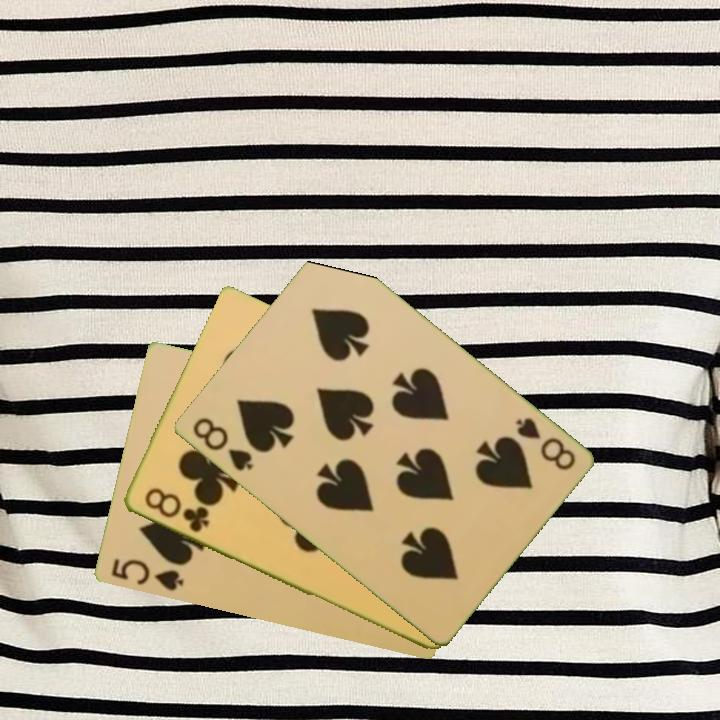5s: (107, 555, 186, 594)
8c: (140, 484, 212, 536)
8s: (188, 413, 256, 475), (511, 414, 578, 474)
